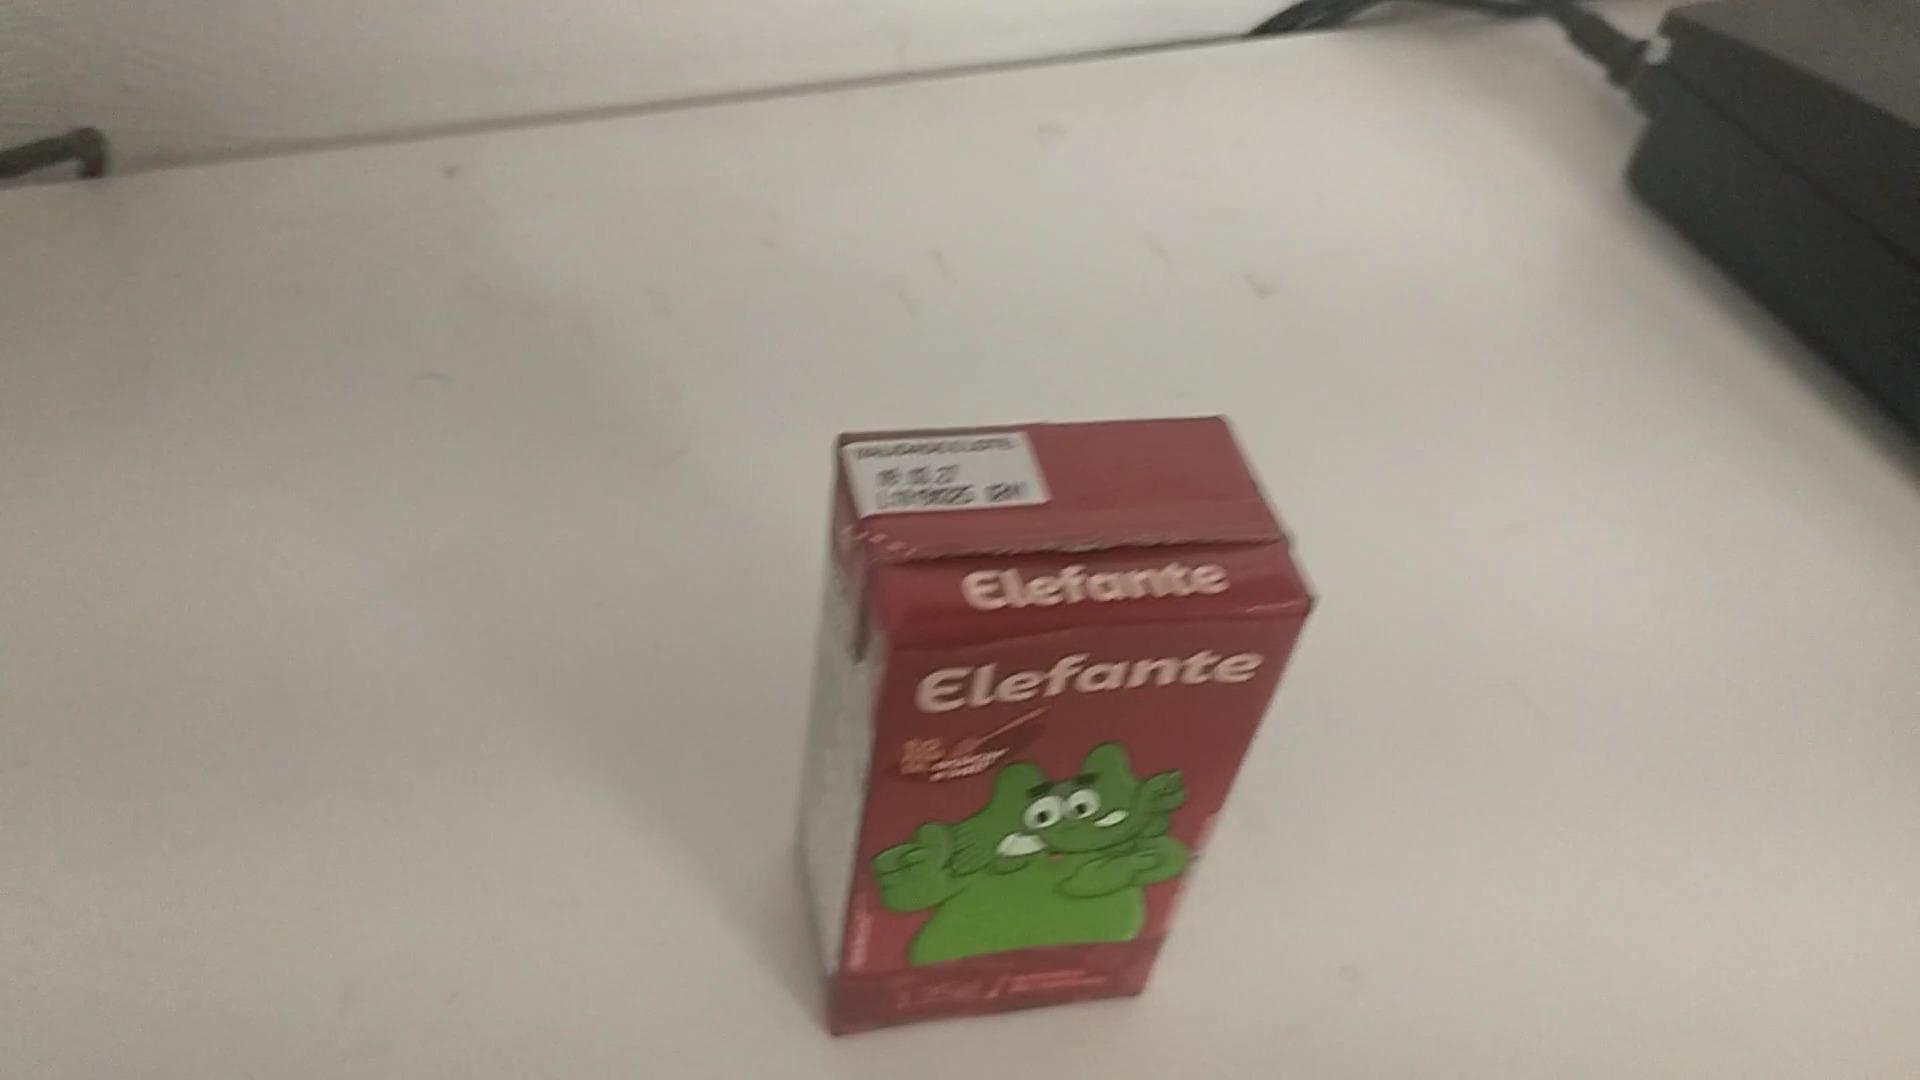tomate: (789, 396, 1329, 1033)
